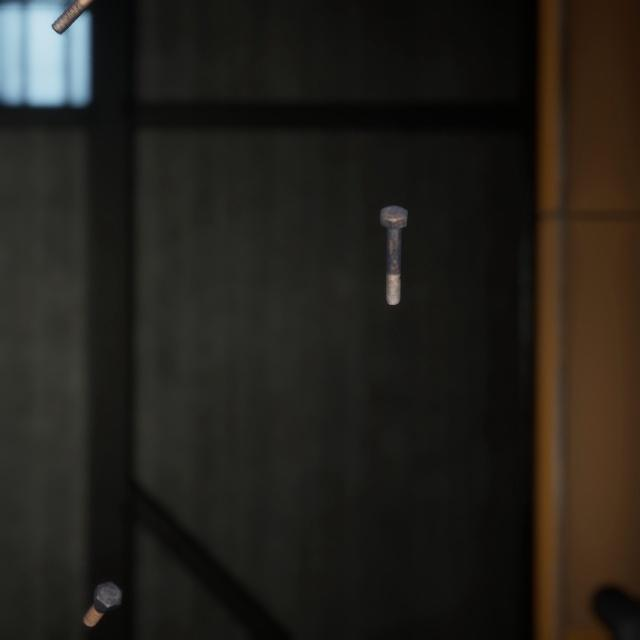bolt: (375, 185, 412, 294), (78, 553, 126, 608), (47, 0, 94, 33)
